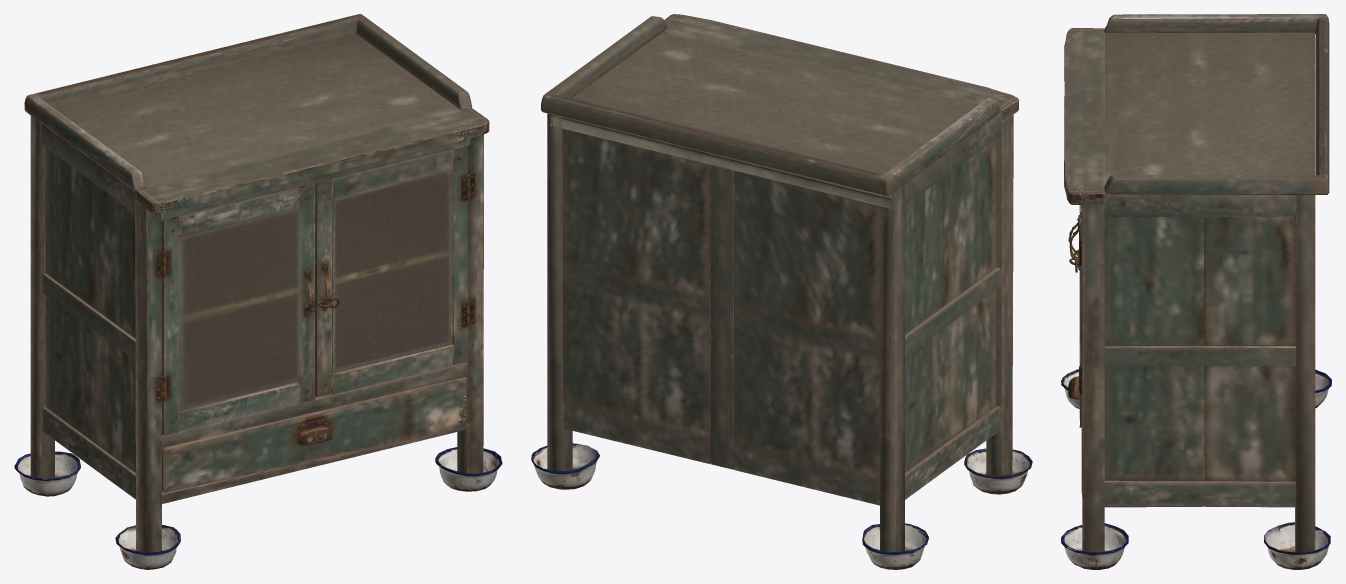
Rendered from Meshy_AI_Rustic_Green_Hutch_1028003102_texture.fbx.
3 renders of one model, left to right at view 1: azimuth 30°, elevation 25°; view 2: azimuth 150°, elevation 25°; view 3: azimuth 270°, elevation 25°, orthographic. The views are drawn at different scales.
Parts seen in each view (by area): view 1: Mesh_0; view 2: Mesh_0; view 3: Mesh_0.
Boxes of the visible parts, box(x1,y1,x2,y2) form: Mesh_0: box(14, 14, 502, 569); Mesh_0: box(531, 14, 1032, 569); Mesh_0: box(1061, 14, 1331, 569).
Bounding box in the file's own units: 134 × 130 × 82.39.
Materials: 1 (1 with a texture image).
